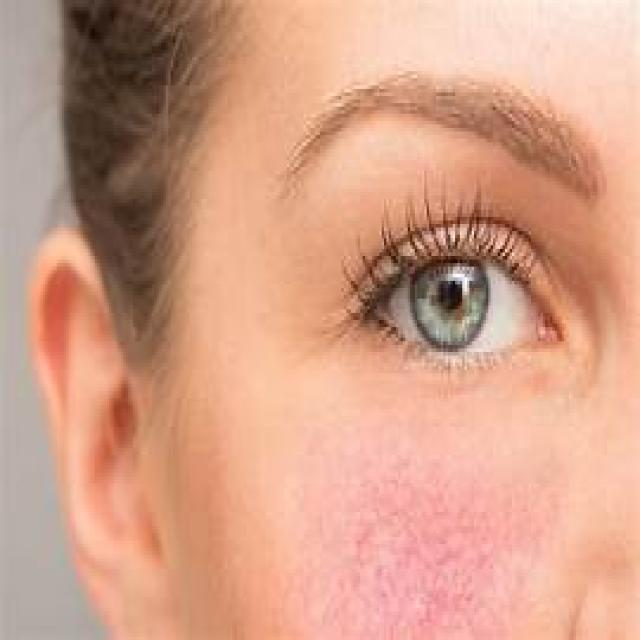Rosacea: (347, 524, 485, 634)
